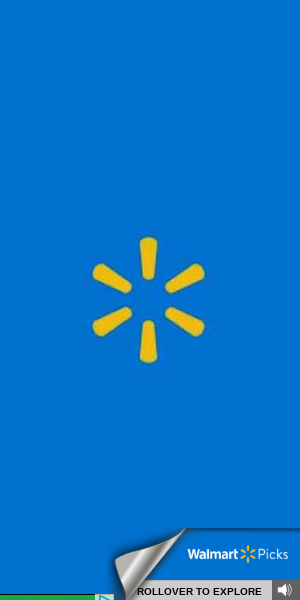fake_button: (265, 575, 300, 600)
